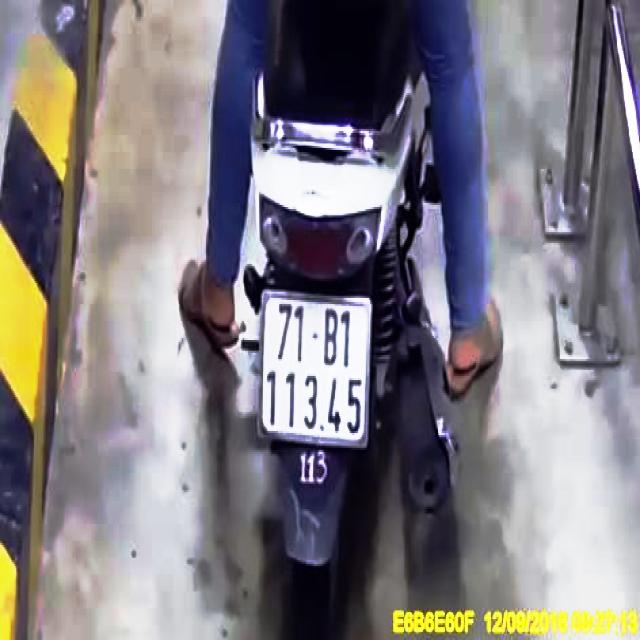license_plate: (259, 289, 372, 446)
